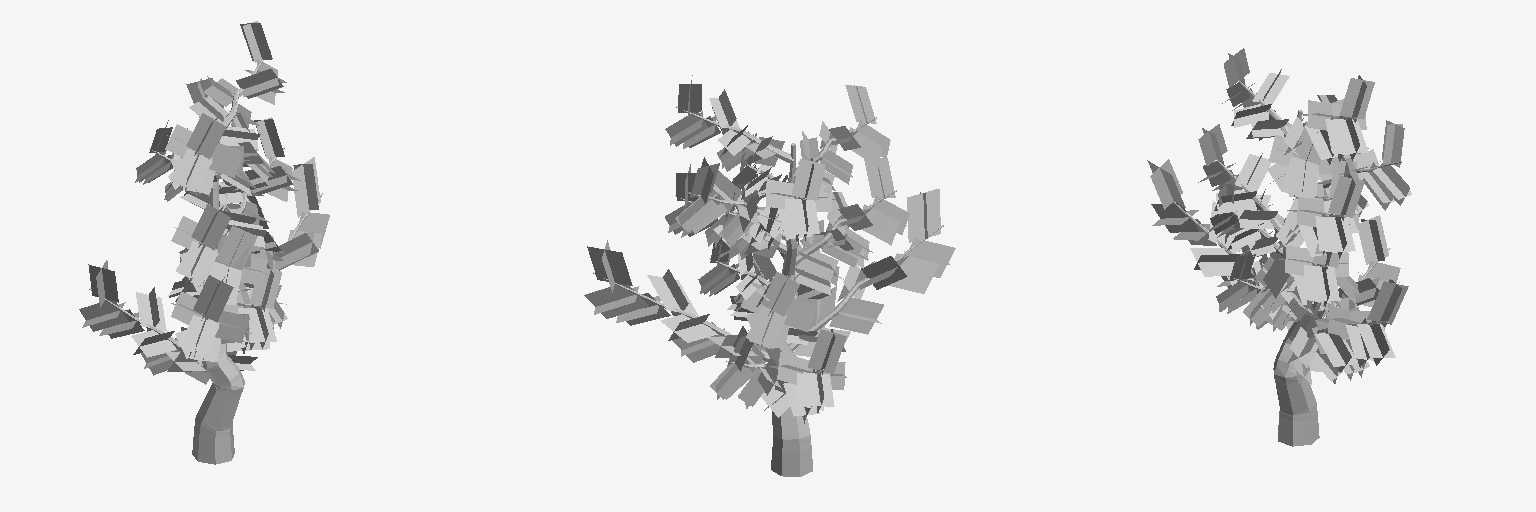
Rendered from TreeA for Mats.obj.
3 renders of one model, left to right at view 1: azimuth 30°, elevation 25°; view 2: azimuth 150°, elevation 25°; view 3: azimuth 270°, elevation 25°, orthographic.
Parts seen in each view (by area): view 1: TreeEE1 Trees; view 2: TreeEE1 Trees; view 3: TreeEE1 Trees.
Boxes of the visible parts, <box> form: TreeEE1 Trees: <box>79,21,329,464</box>; TreeEE1 Trees: <box>584,75,955,476</box>; TreeEE1 Trees: <box>1147,48,1411,446</box>.
Bounding box in the file's own units: 3.22 × 4.7 × 2.86.